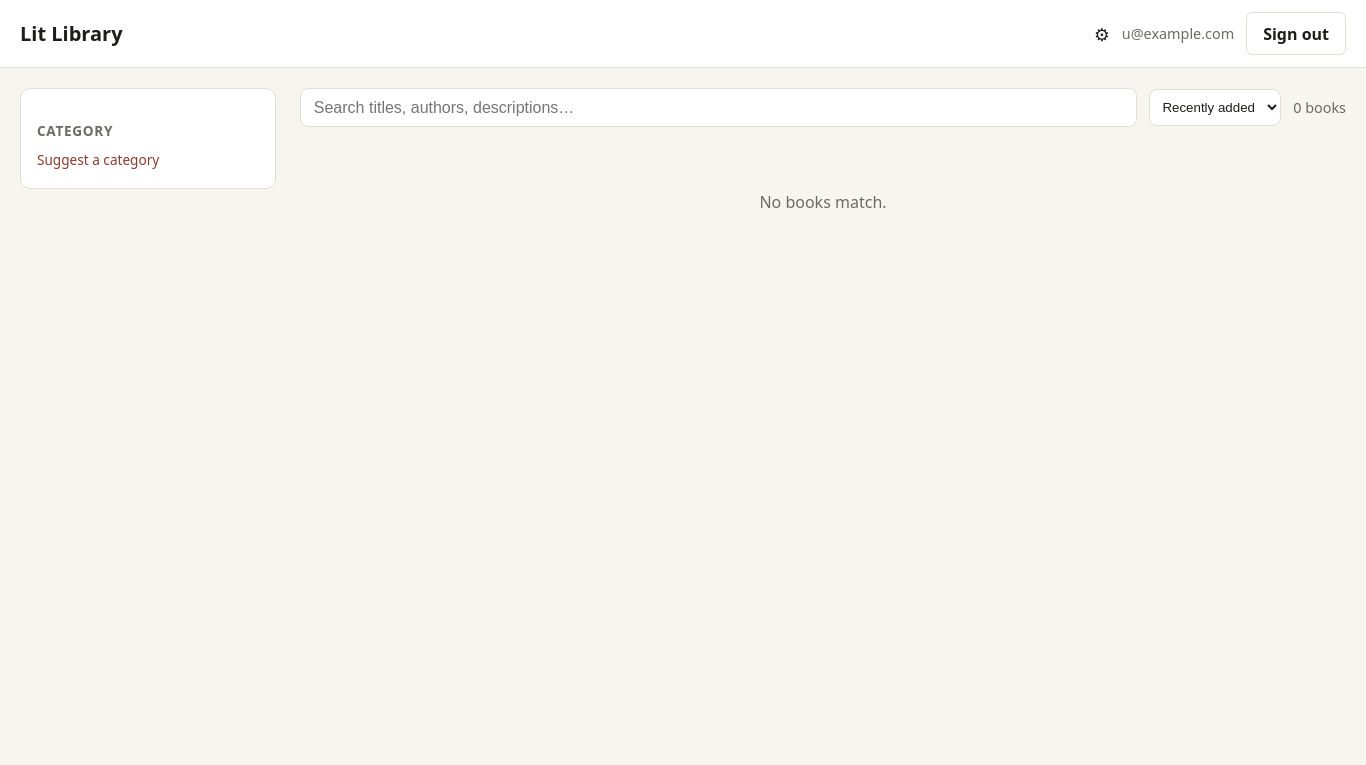
App › links to Settings from the header and renders the page
This screenshot has width=1366, height=765.
What coordinates should you click on to do the following:
click the link named "Settings"
I would click on:
 (1102, 34)
Its box is [1094,22,1110,46].
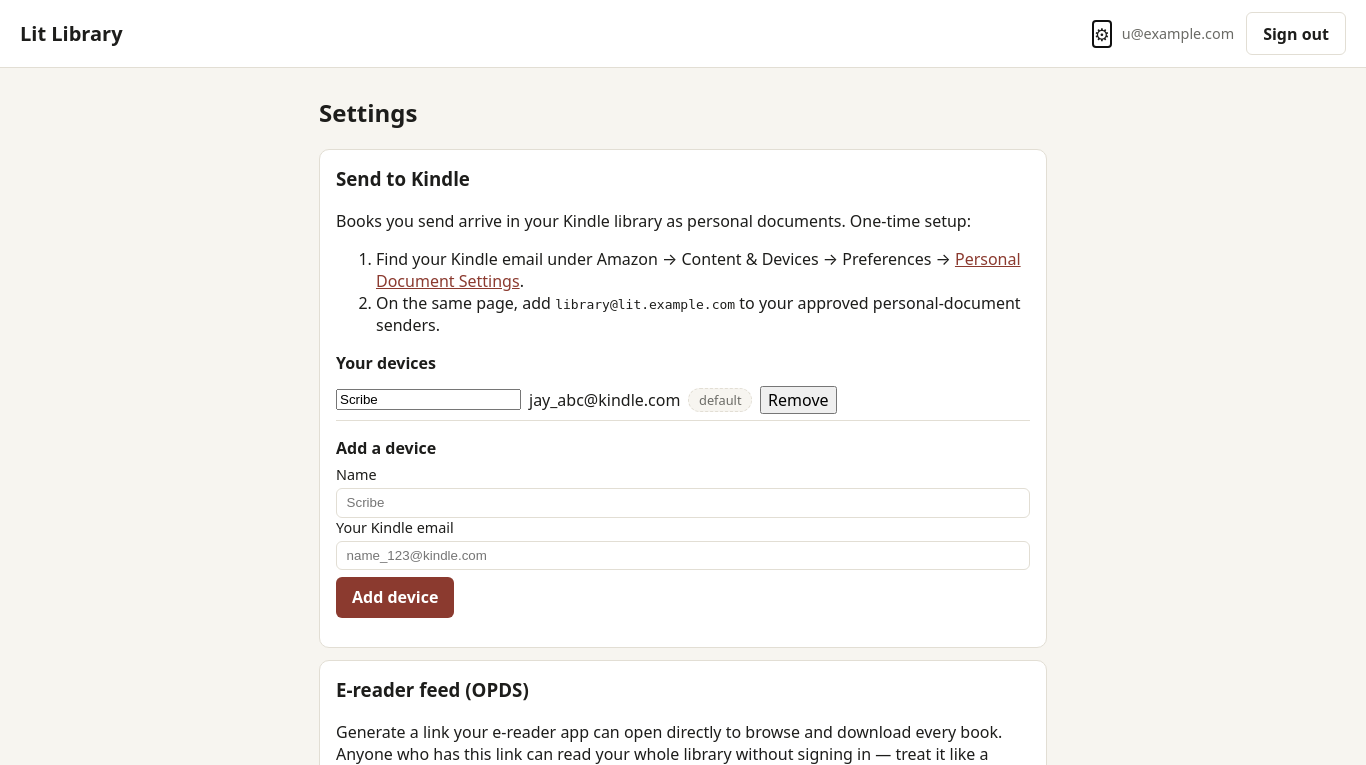
Check: the heading "Settings" is shown, box [319,96,418,129]
Check: the field named "Name for jay_abc@kindle.com" holds "Scribe", box [336,389,521,410]
